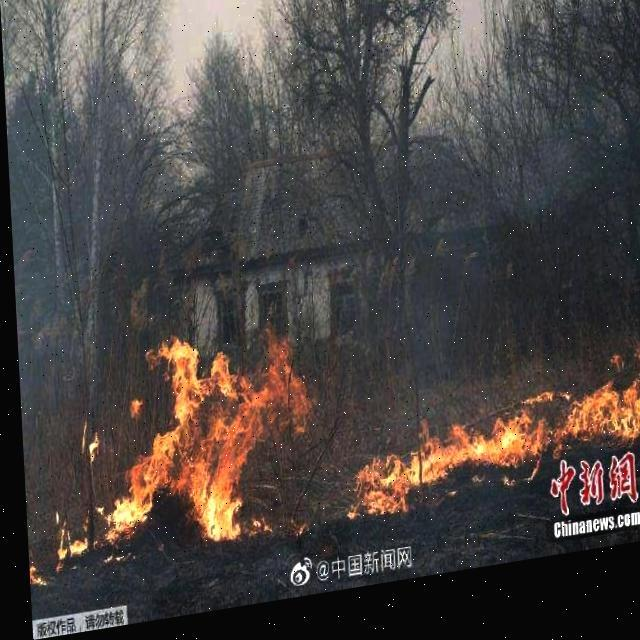Fire: (54, 324, 314, 562), (344, 380, 639, 526)
